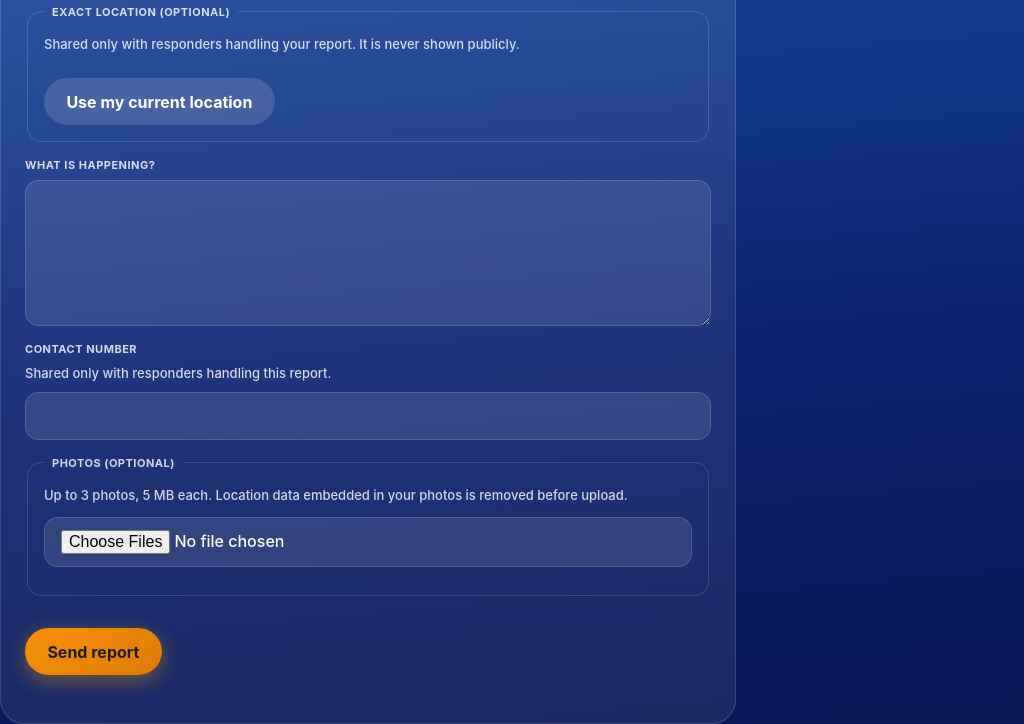
it: report form › REQ-030: focuses an error summary that links to each invalid field
The width and height of the screenshot is (1024, 724).
(page scrolled)
Step 1. Click the button "Send report" → (93, 652), box [25,628,162,676]
(page scrolled)
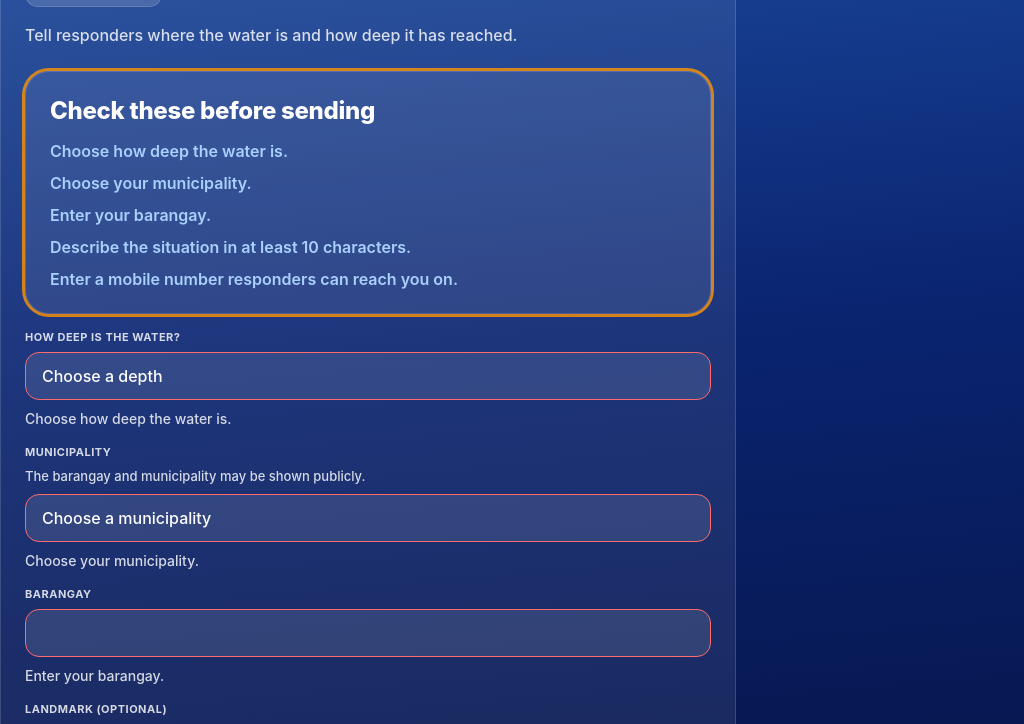
Check: the text "Choose your municipality." is shown, box [25,552,199,569]
